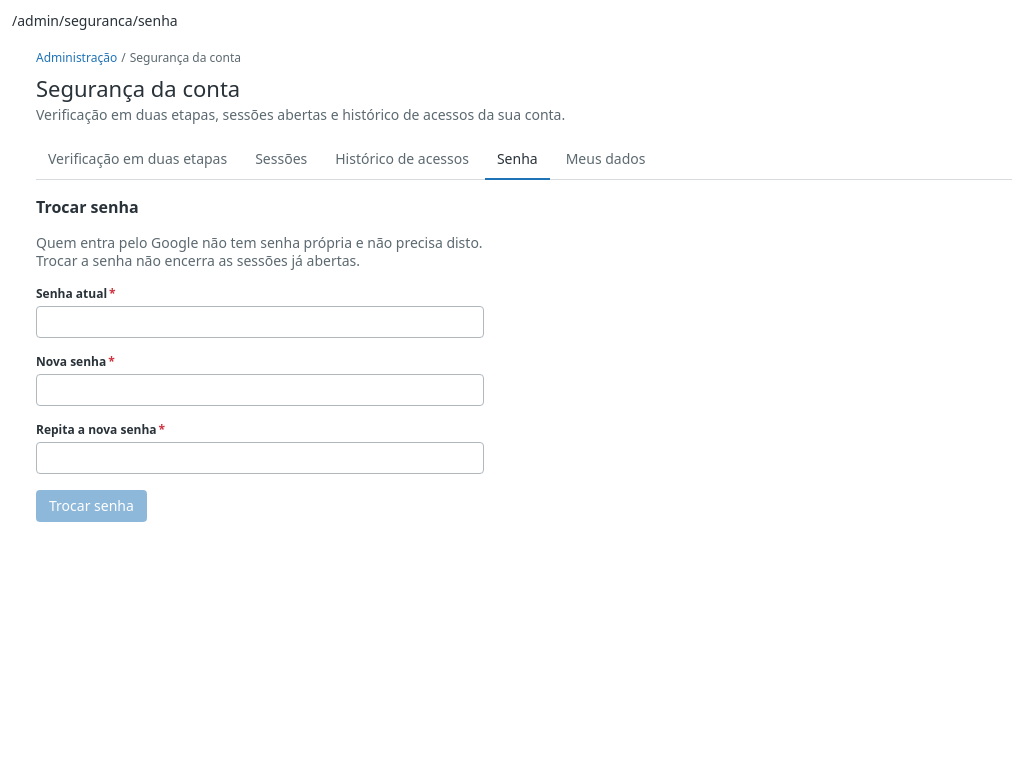
Test: Segurança: sessões, histórico e senha › senha: confirma divergência e mostra o erro do campo vindo do servidor
Step 1. Type "errada" into the password field labelled "Senha atual*" → {"x": 260, "y": 322}, box left=37, top=307, right=483, bottom=337
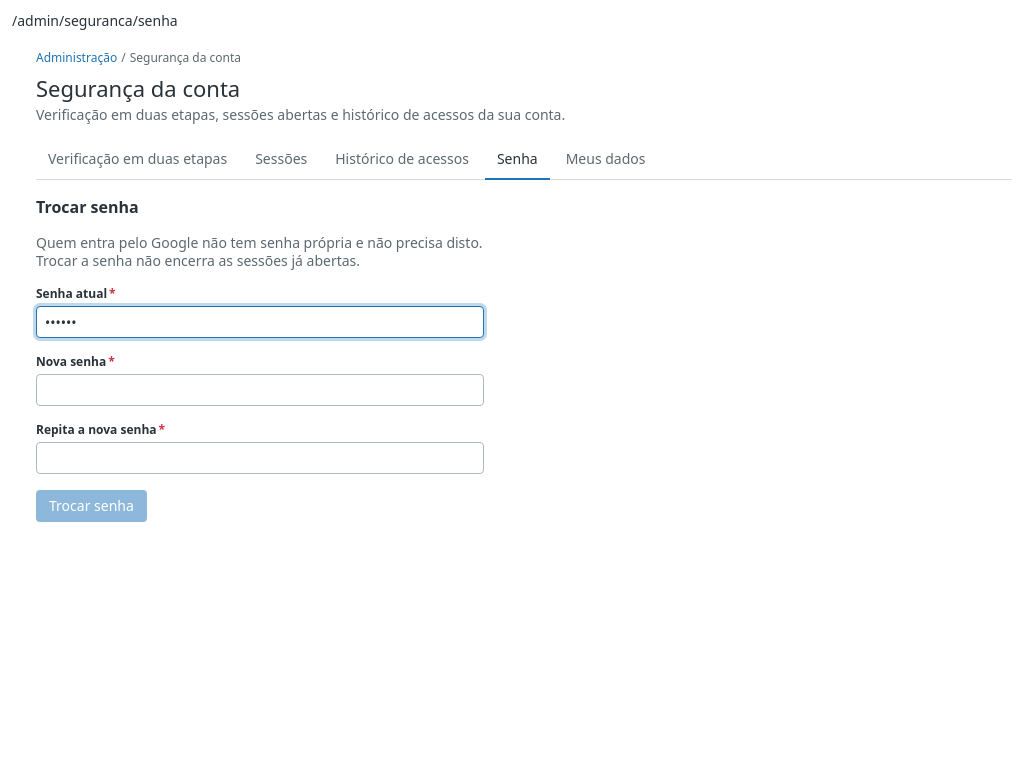
Step 2. Type "nova-senha-123" into the password field labelled "Nova senha*" → {"x": 260, "y": 390}, box left=37, top=375, right=483, bottom=405
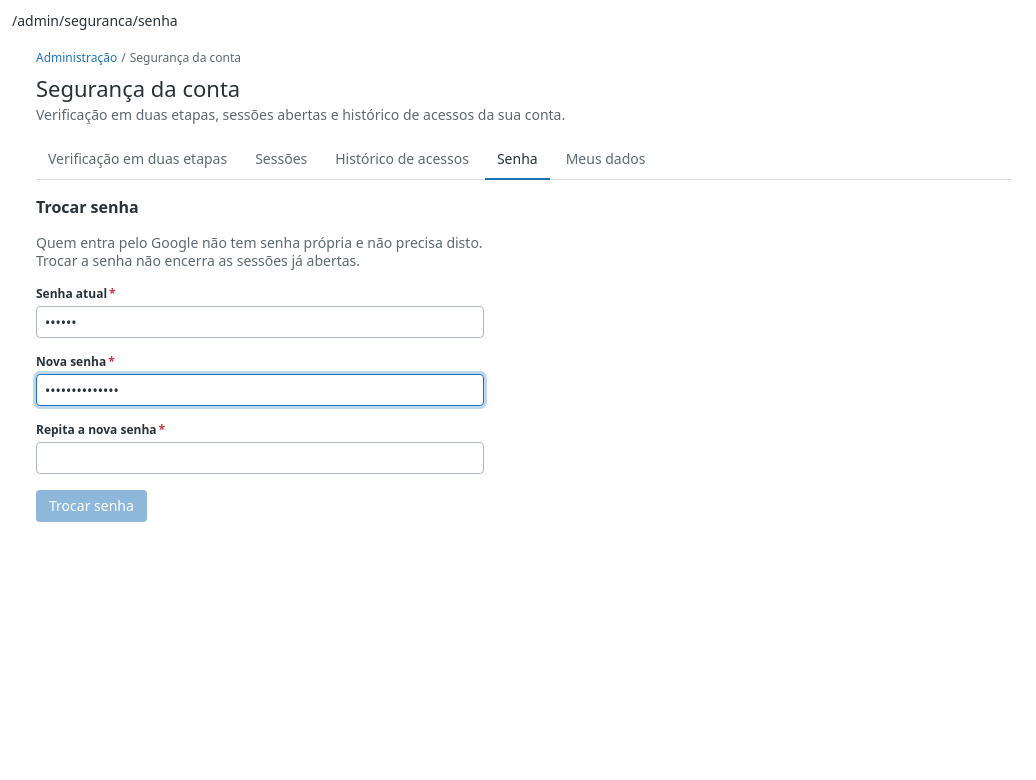
Step 3. Type "outra" into the password field labelled "Repita a nova senha*" → {"x": 260, "y": 458}, box left=37, top=443, right=483, bottom=473
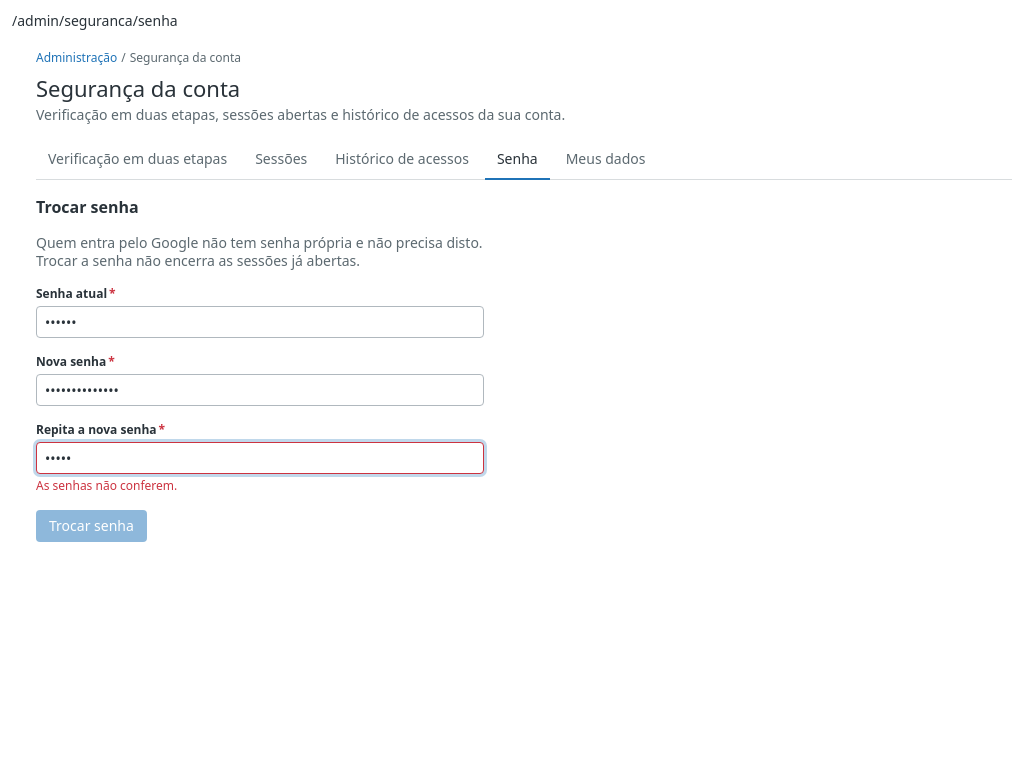
Check: the button "Trocar senha" is disabled, box left=36, top=510, right=147, bottom=542
Check: the text "As senhas não conferem." is shown, box left=36, top=477, right=177, bottom=494
Step 4. Type "nova-senha-123" into the password field labelled "Repita a nova senha*" → {"x": 260, "y": 458}, box left=37, top=443, right=483, bottom=473
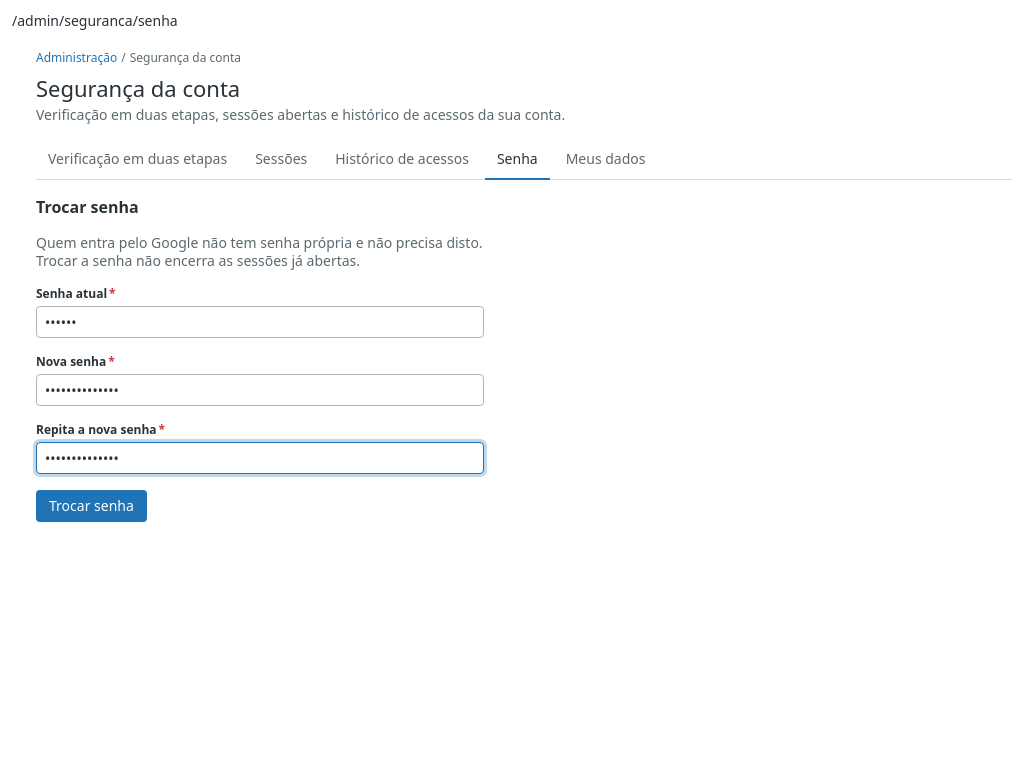
Step 5. Click the button "Trocar senha" → {"x": 91, "y": 506}, box left=36, top=490, right=147, bottom=522
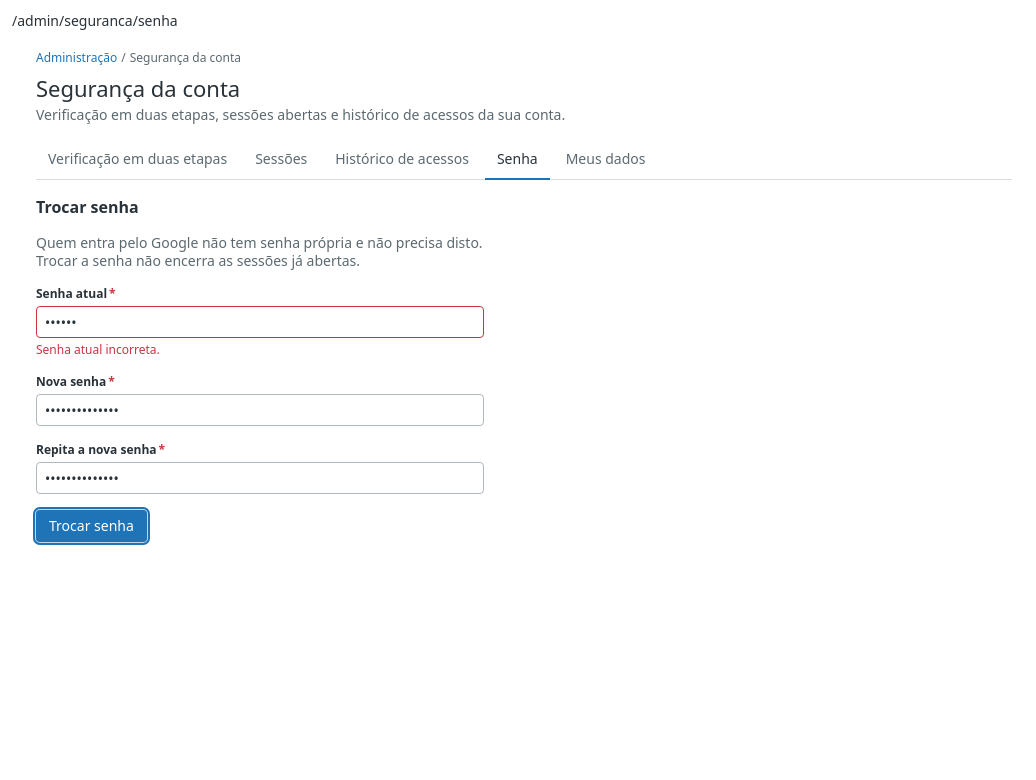
Check: the text "Senha atual incorreta." is shown, box left=36, top=341, right=160, bottom=358
